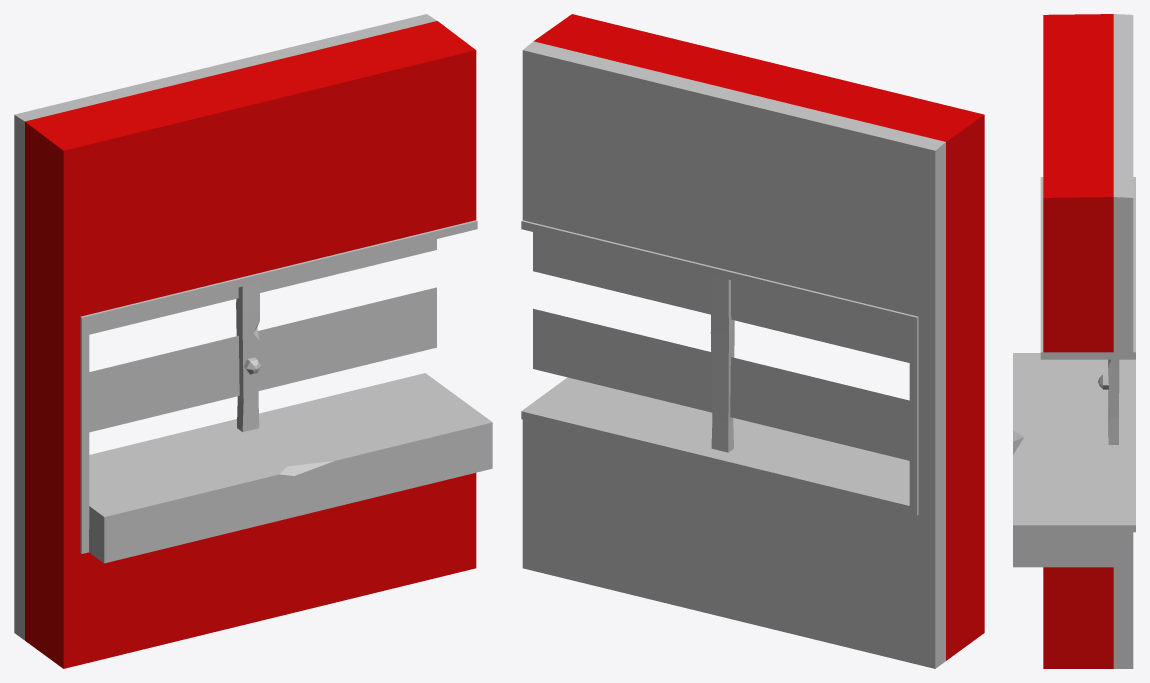
The model's file is SM_Bld_Wall_Reception_03.fbx.
3 views of the same model, side by side, from view 1: azimuth 30°, elevation 25°; view 2: azimuth 150°, elevation 25°; view 3: azimuth 270°, elevation 25° (orthographic). The views are drawn at different scales.
Visible parts, largest first — view 1: SM_Bld_Wall_Reception_03; view 2: SM_Bld_Wall_Reception_03; view 3: SM_Bld_Wall_Reception_03.
Part boxes in pixels (left/top/right/bottom): SM_Bld_Wall_Reception_03: left=14, top=14, right=492, bottom=668; SM_Bld_Wall_Reception_03: left=521, top=14, right=984, bottom=668; SM_Bld_Wall_Reception_03: left=1013, top=14, right=1135, bottom=668.
Size of the model in its own units: 250 by 301 by 70.83.
